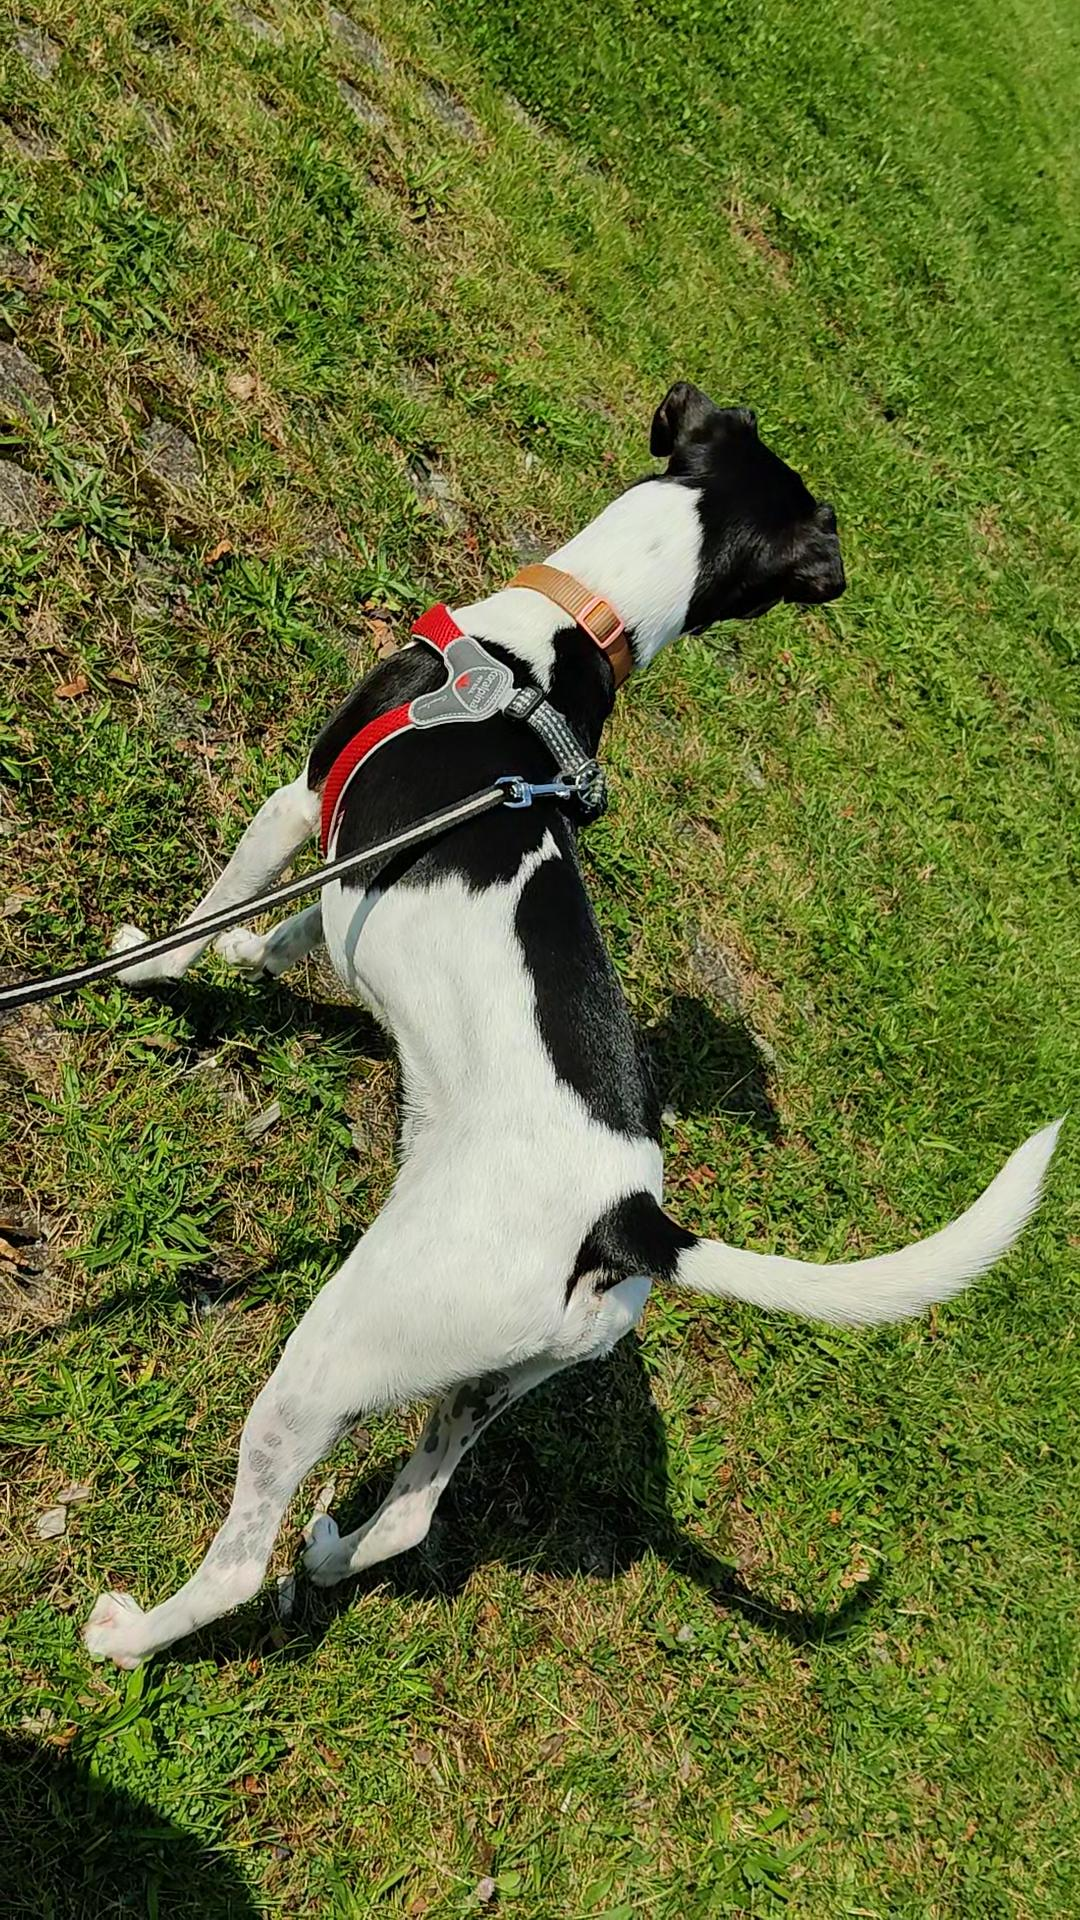Dog: (74, 371, 1062, 1672)
